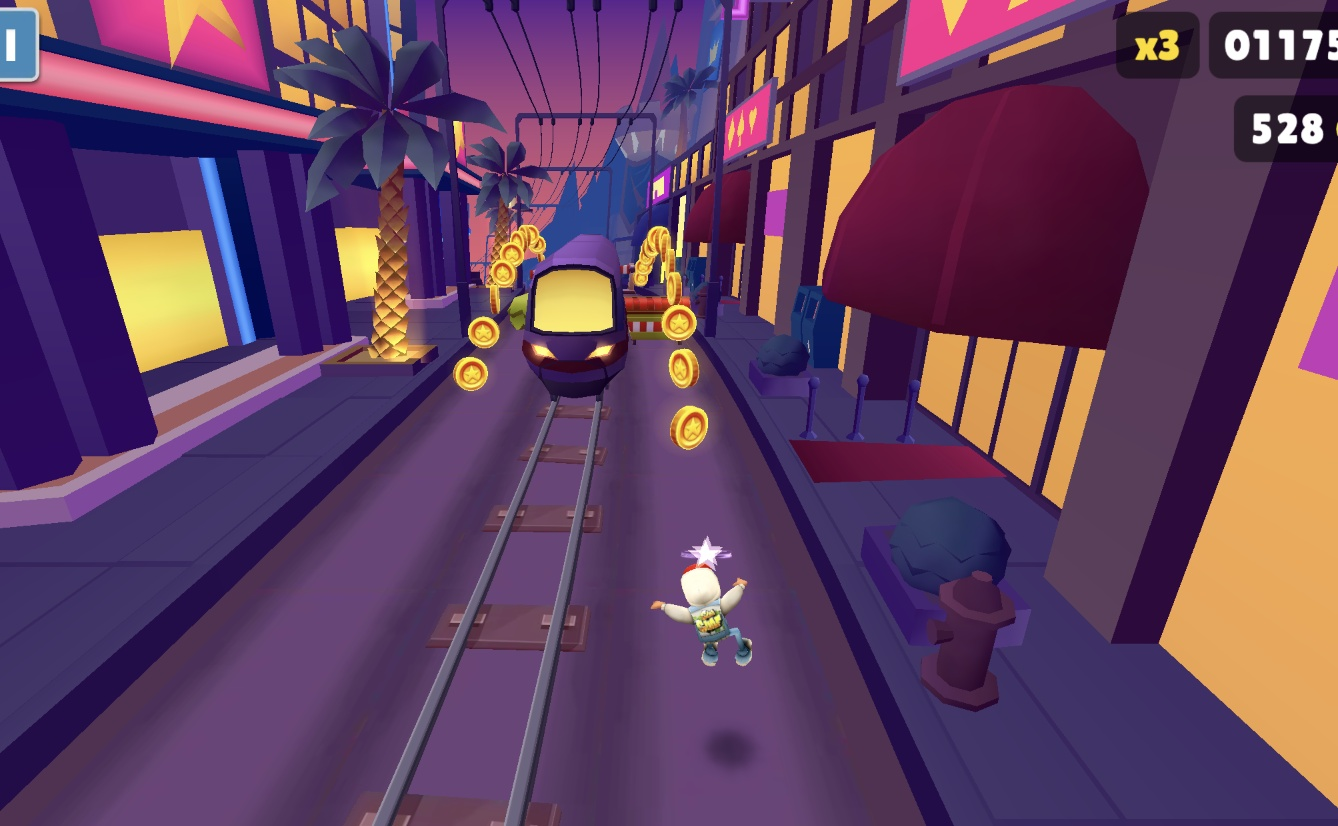bush: (507, 292, 534, 332)
small_obstacle: (622, 292, 679, 347)
train: (517, 235, 634, 399)
